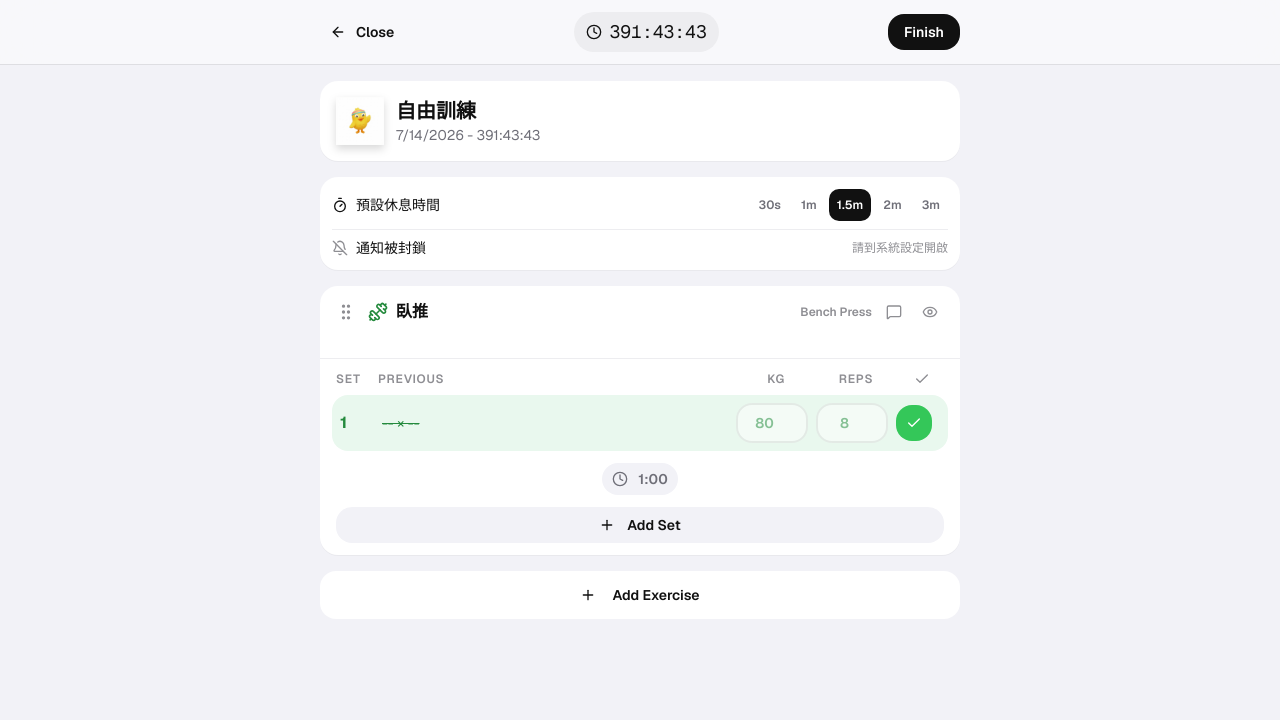
Scenario: workout finish flow › opens a close confirmation from the active workout logger
What coordinates should you click on to do the following:
click the button "Close"
I would click on:
 (362, 32)
Its box is [320,16,404,48].
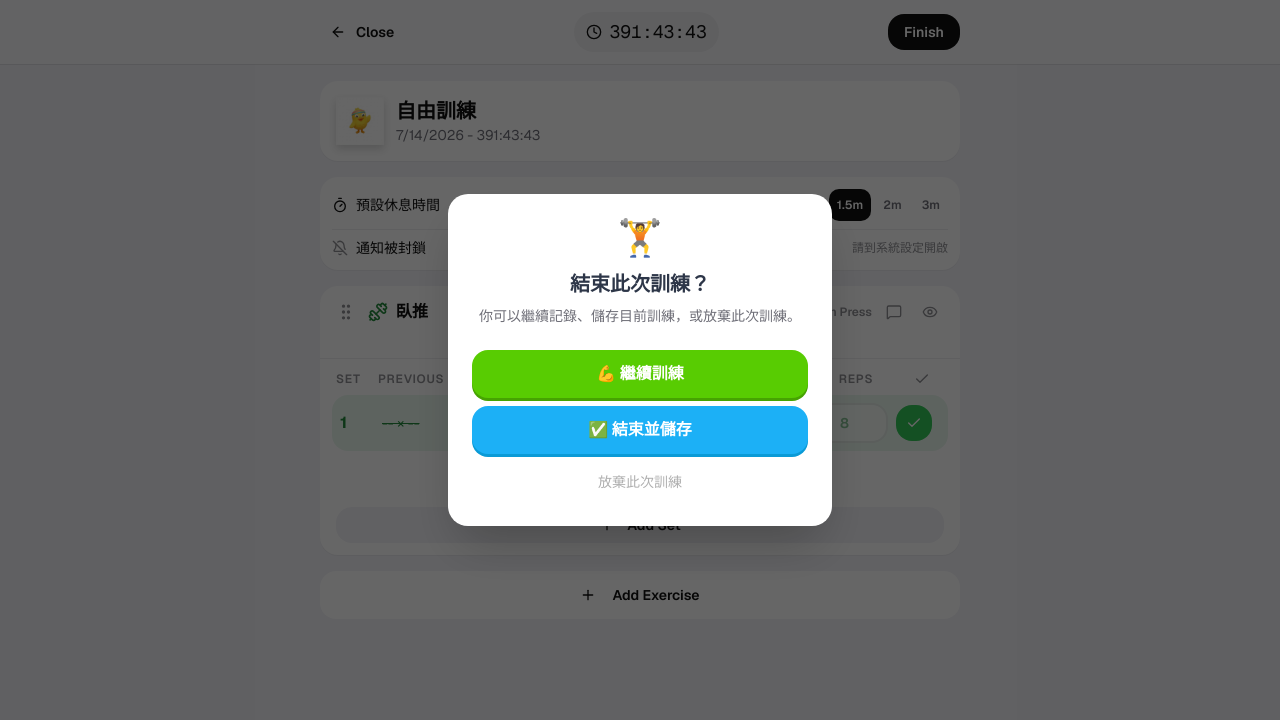
Check: the heading "結束此次訓練？" is shown, box [570,271,710,297]
Check: the button "💪 繼續訓練" is shown, box [472,350,808,398]
Check: the button "放棄此次訓練" is shown, box [472,462,808,502]
